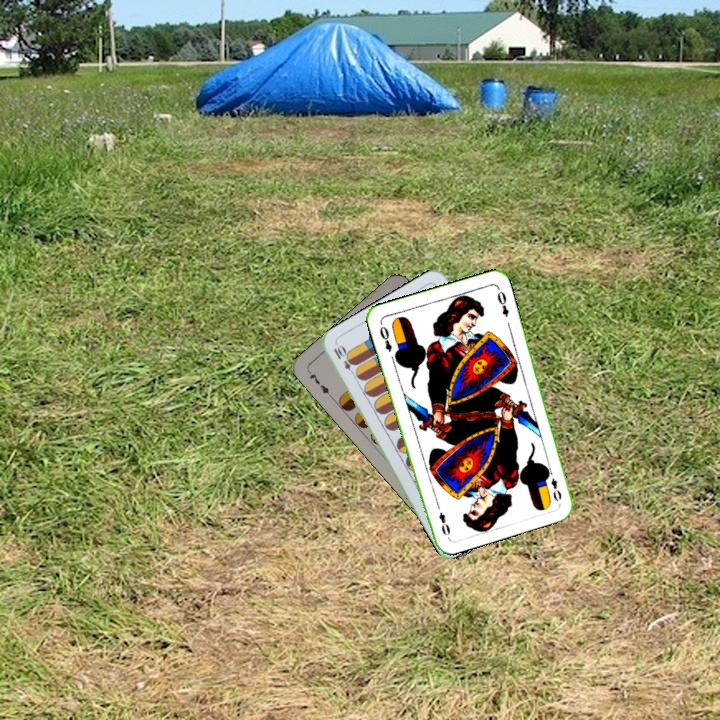E10: (329, 341, 359, 379)
E7: (304, 367, 335, 401)
EO: (543, 465, 564, 504), (376, 319, 395, 354)
